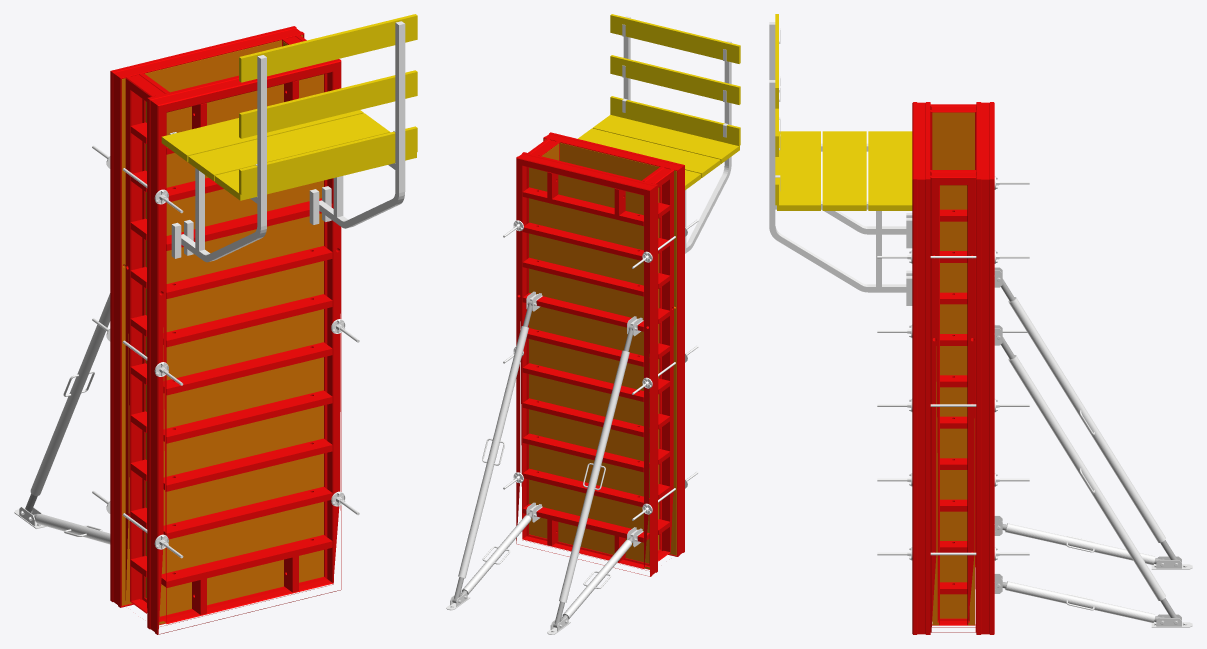
3 views of the same model, side by side, from view 1: azimuth 30°, elevation 25°; view 2: azimuth 150°, elevation 25°; view 3: azimuth 270°, elevation 25° (orthographic). The views are drawn at different scales.
Parts seen in each view (by area): view 1: lin_pan_120x330_1, qwe_dwg1, lin_pan_120x330_2, lin_pan_30x330_2, kronshtein_3d2, kronshtein_3d1, truba2_3d2, truba1_3d2; view 2: lin_pan_120x330_2, qwe_dwg1, lin_pan_120x330_1, lin_pan_30x330_2, truba2_3d1, truba2_3d2, kronshtein_3d2, truba1_3d1, truba1_3d2, kronshtein_3d1, lin_pan_30x330_1; view 3: lin_pan_30x330_1, qwe_dwg1, lin_pan_120x330_2, lin_pan_120x330_1, lin_pan_30x330_2, kronshtein_3d1, truba2_3d1, truba2_3d2, truba1_3d1, truba1_3d2, kronshtein_3d2.
Boxes of the visible parts, x1=… form: lin_pan_120x330_1: x1=147, y1=59, x2=341, y2=634; qwe_dwg1: x1=161, y1=14, x2=417, y2=200; lin_pan_120x330_2: x1=110, y1=26, x2=304, y2=607; lin_pan_30x330_2: x1=125, y1=73, x2=169, y2=613; kronshtein_3d2: x1=169, y1=55, x2=266, y2=262; kronshtein_3d1: x1=309, y1=21, x2=405, y2=228; truba2_3d2: x1=30, y1=293, x2=110, y2=495; truba1_3d2: x1=35, y1=514, x2=110, y2=544; lin_pan_120x330_2: x1=516, y1=152, x2=657, y2=576; qwe_dwg1: x1=578, y1=14, x2=740, y2=190; lin_pan_120x330_1: x1=543, y1=132, x2=684, y2=556; lin_pan_30x330_2: x1=642, y1=166, x2=673, y2=561; truba2_3d1: x1=458, y1=326, x2=528, y2=578; truba2_3d2: x1=559, y1=350, x2=629, y2=602; kronshtein_3d2: x1=685, y1=40, x2=731, y2=253; truba1_3d1: x1=461, y1=515, x2=531, y2=594; truba1_3d2: x1=562, y1=540, x2=631, y2=619; kronshtein_3d1: x1=622, y1=16, x2=630, y2=112; lin_pan_30x330_1: x1=528, y1=138, x2=559, y2=160; lin_pan_30x330_1: x1=930, y1=170, x2=976, y2=632; qwe_dwg1: x1=775, y1=14, x2=912, y2=210; lin_pan_120x330_2: x1=976, y1=102, x2=994, y2=634; lin_pan_120x330_1: x1=912, y1=102, x2=930, y2=634; lin_pan_30x330_2: x1=930, y1=104, x2=976, y2=566; kronshtein_3d1: x1=769, y1=80, x2=912, y2=305; truba2_3d1: x1=1008, y1=355, x2=1165, y2=600; truba2_3d2: x1=1008, y1=297, x2=1165, y2=542; truba1_3d1: x1=1005, y1=581, x2=1155, y2=622; truba1_3d2: x1=1005, y1=523, x2=1155, y2=564; kronshtein_3d2: x1=769, y1=22, x2=912, y2=248.
Size of the model in its own units: 1240 by 3950 by 2780.
